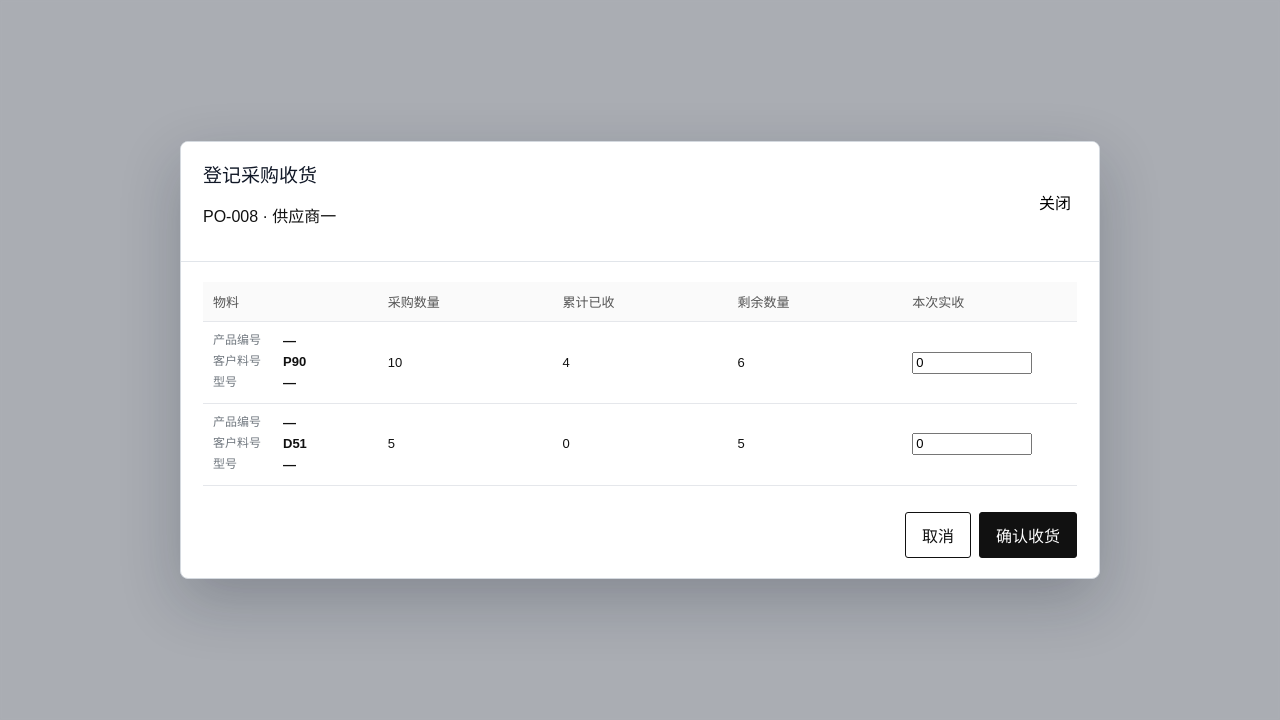
Test: rejects an all-zero or over-remaining receipt
Submit the form, box [181,262,1099,578]
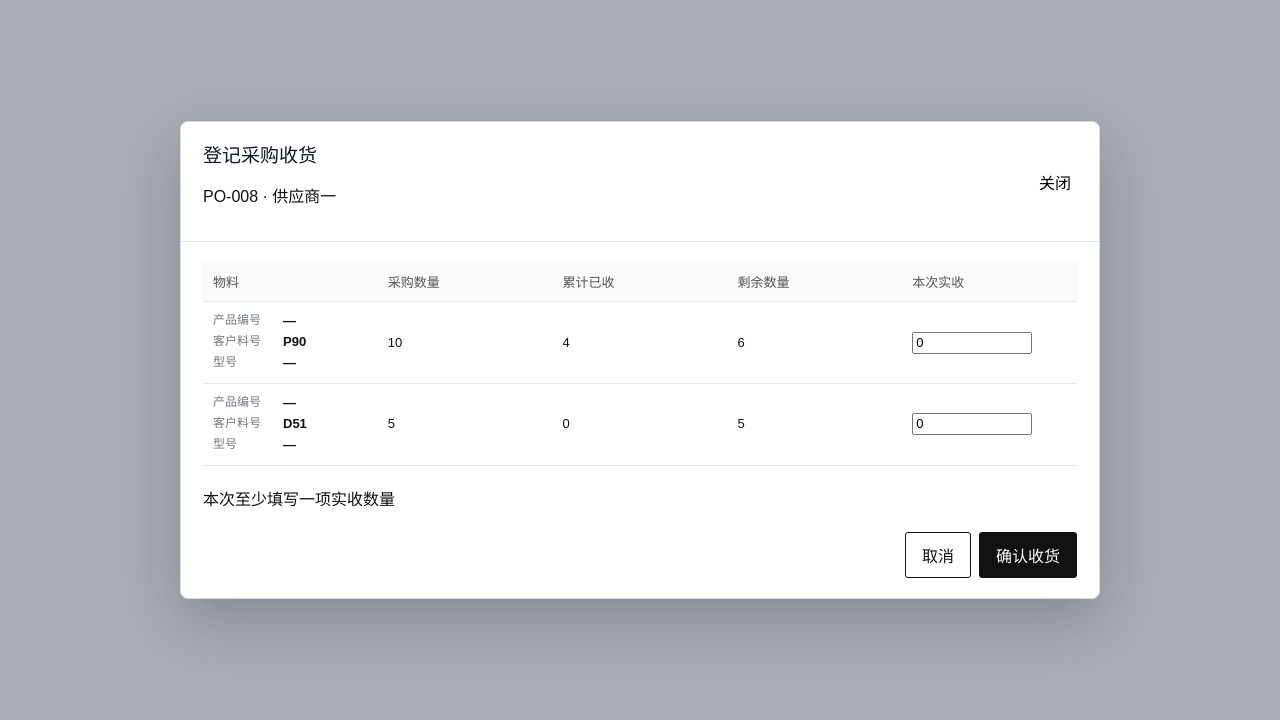
Result: the text "本次至少填写一项实收数量" is shown at [203,490,395,508]
Replace the text in the number field with test id "received-now" in the row of "P90" with "7": (972, 343) [912,332,1032,354]
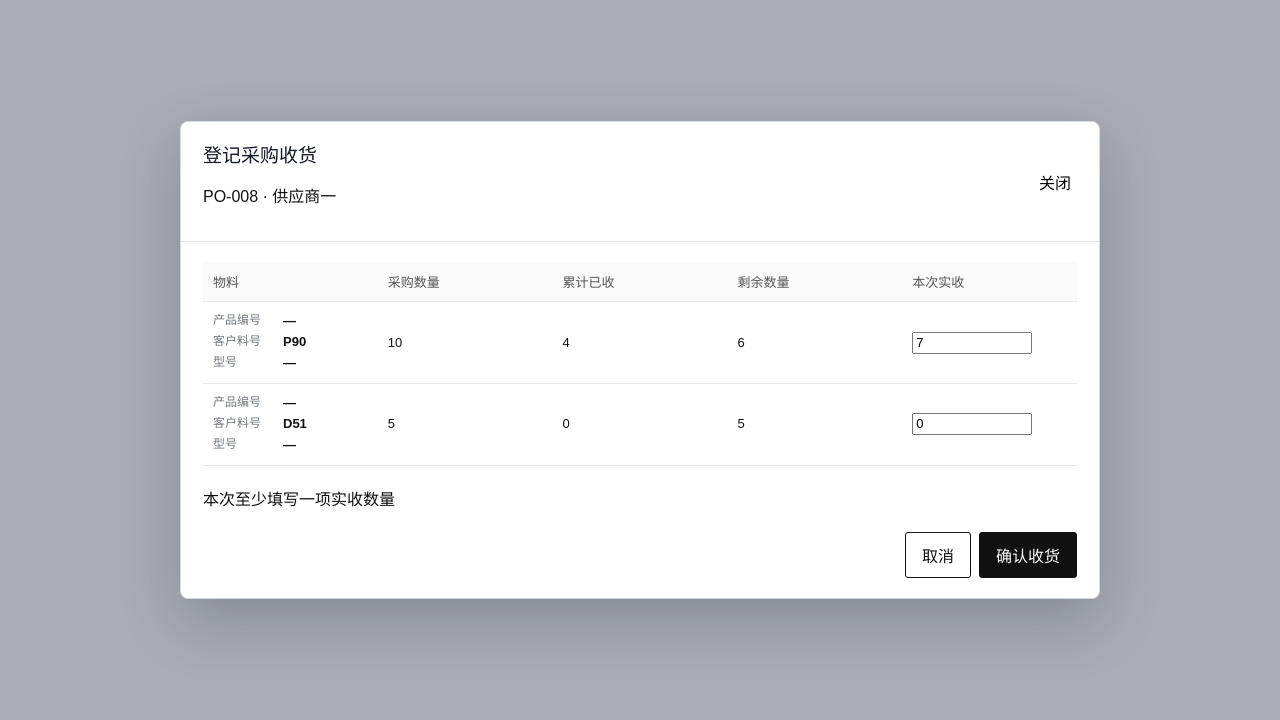
Submit the form, box [181,242,1099,598]
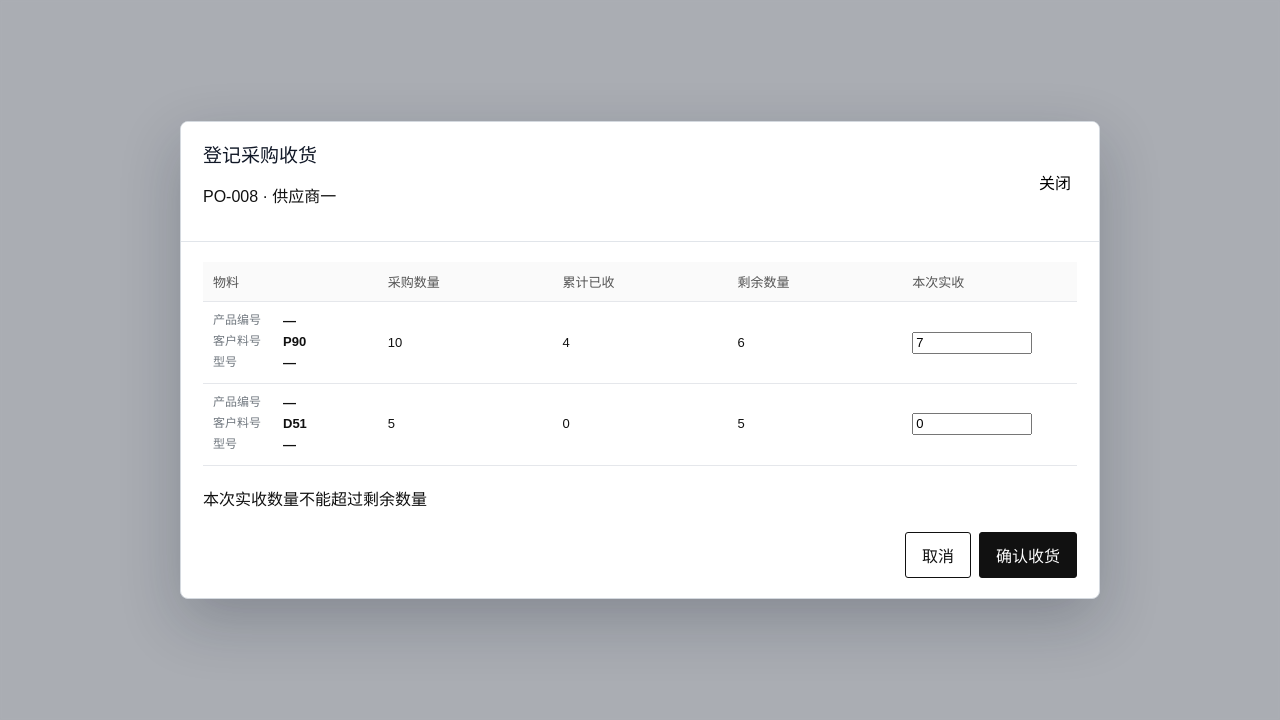
Result: the text "本次实收数量不能超过剩余数量" is shown at [203,490,427,508]
